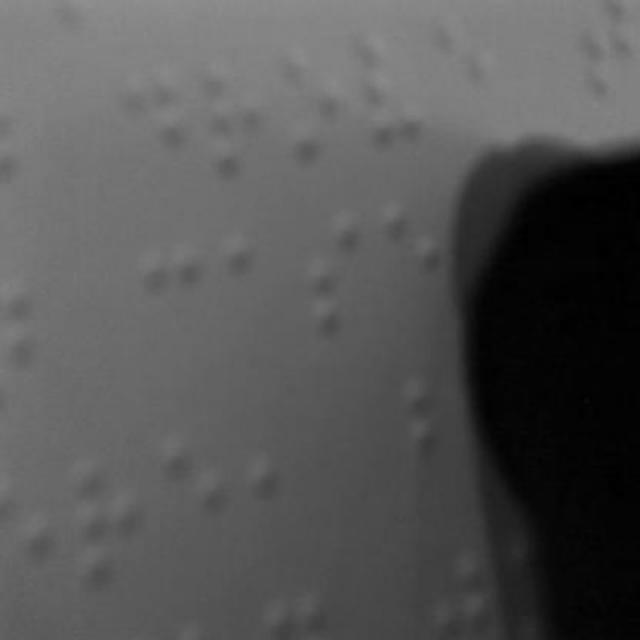braiile: (65, 449, 151, 589), (159, 428, 239, 574), (248, 412, 322, 552), (278, 43, 354, 179), (136, 228, 212, 364), (358, 19, 432, 154), (437, 14, 507, 150), (379, 192, 446, 332), (199, 50, 271, 176), (224, 223, 292, 349), (117, 54, 187, 176), (306, 212, 369, 338)
